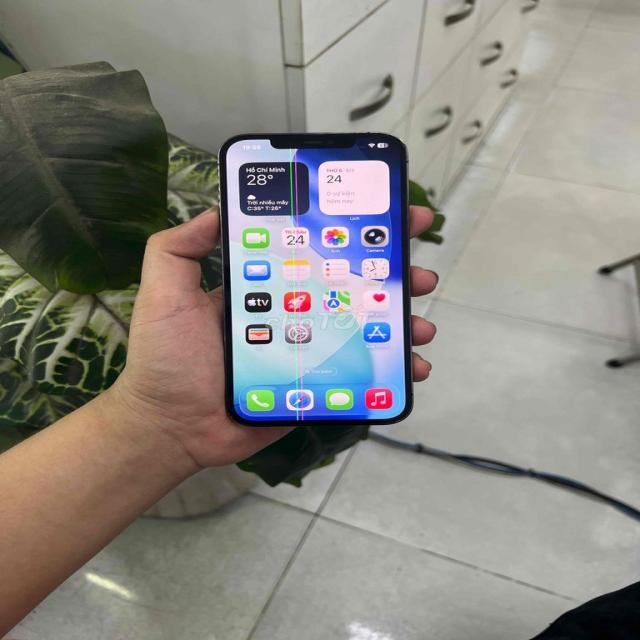screen_defect: (270, 136, 333, 428)
